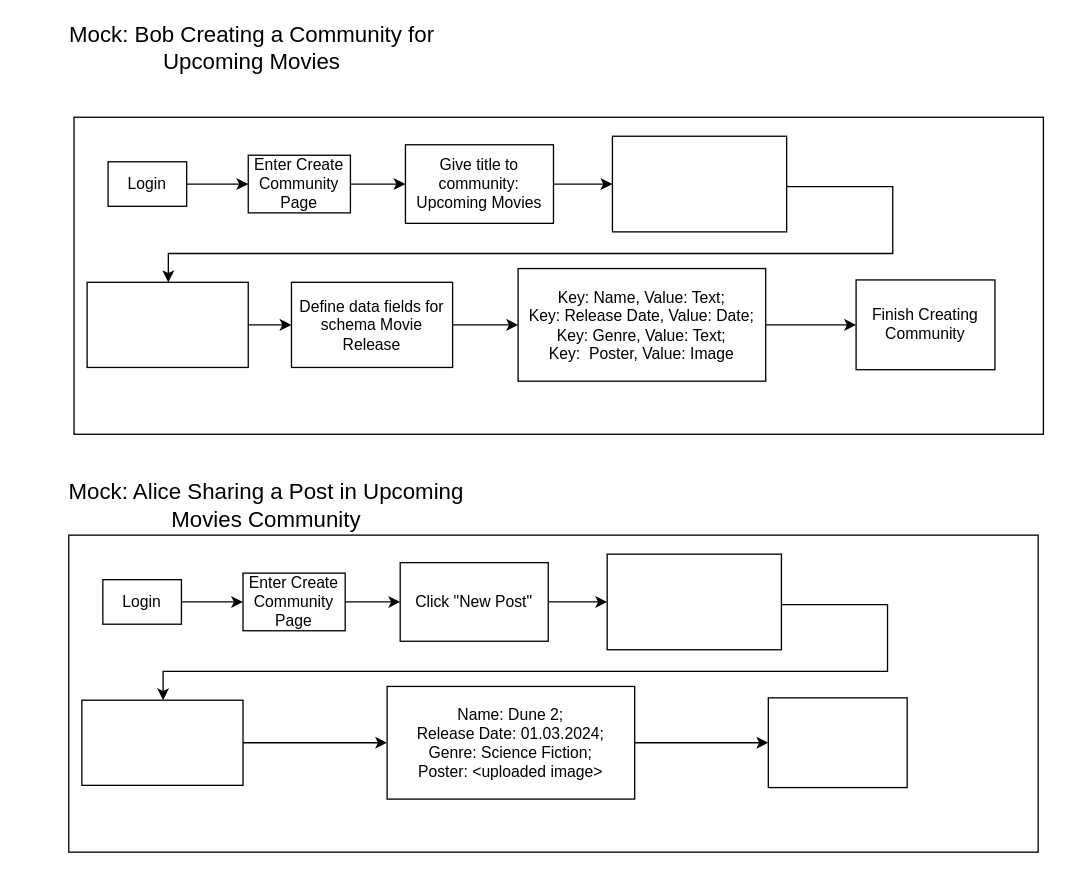
The diagram is 1066 pixels wide and 875 high, and some of its shapes have lost their labels. Here are the shapes that lost their labels. From the top down, the box of each, then its label:
(611, 135, 787, 232): Give description to community: Community for tracking the newest movie releases
(86, 281, 248, 367): Define a Schema for Post, schema name: Movie Release
(606, 553, 781, 650): Choose schema for the post: Movie Release
(81, 699, 243, 785): Enter Values to Schema
(767, 697, 907, 788): Finish Post
